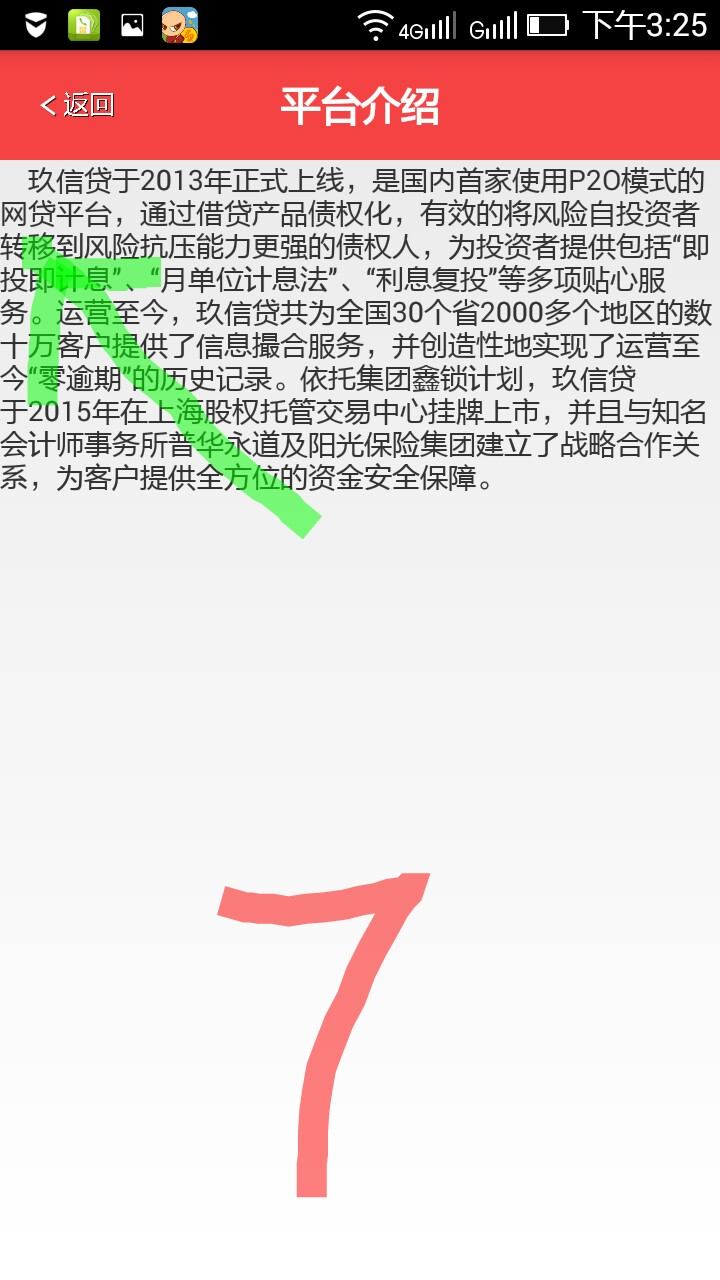button: (33, 77, 114, 126)
